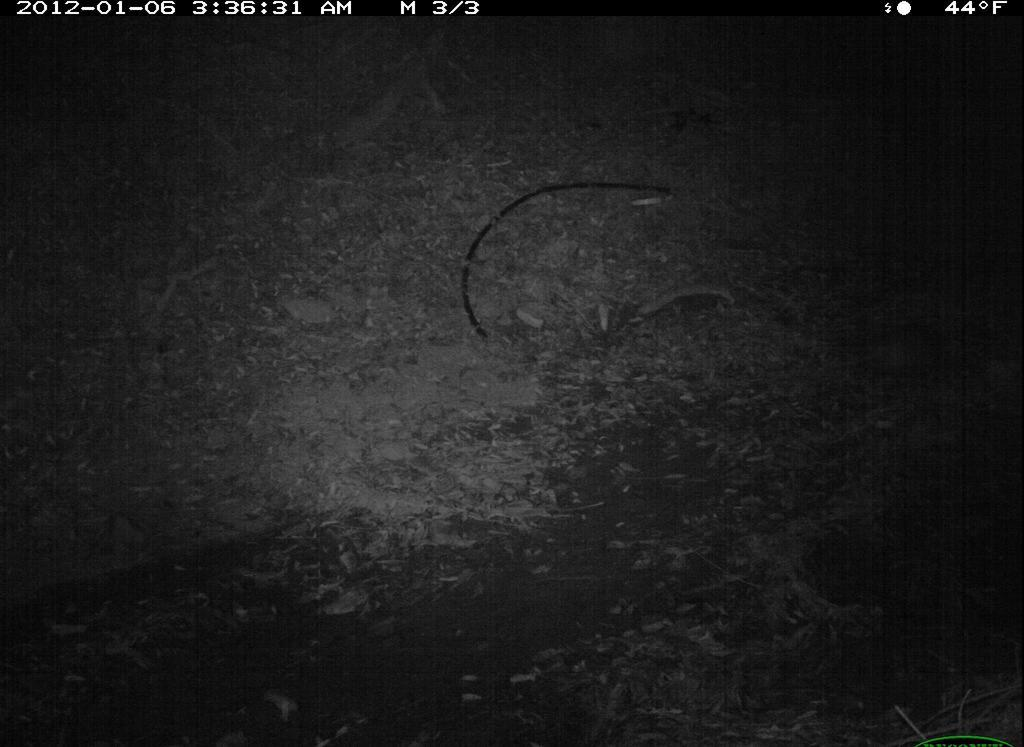opossum: (822, 312, 958, 390)
